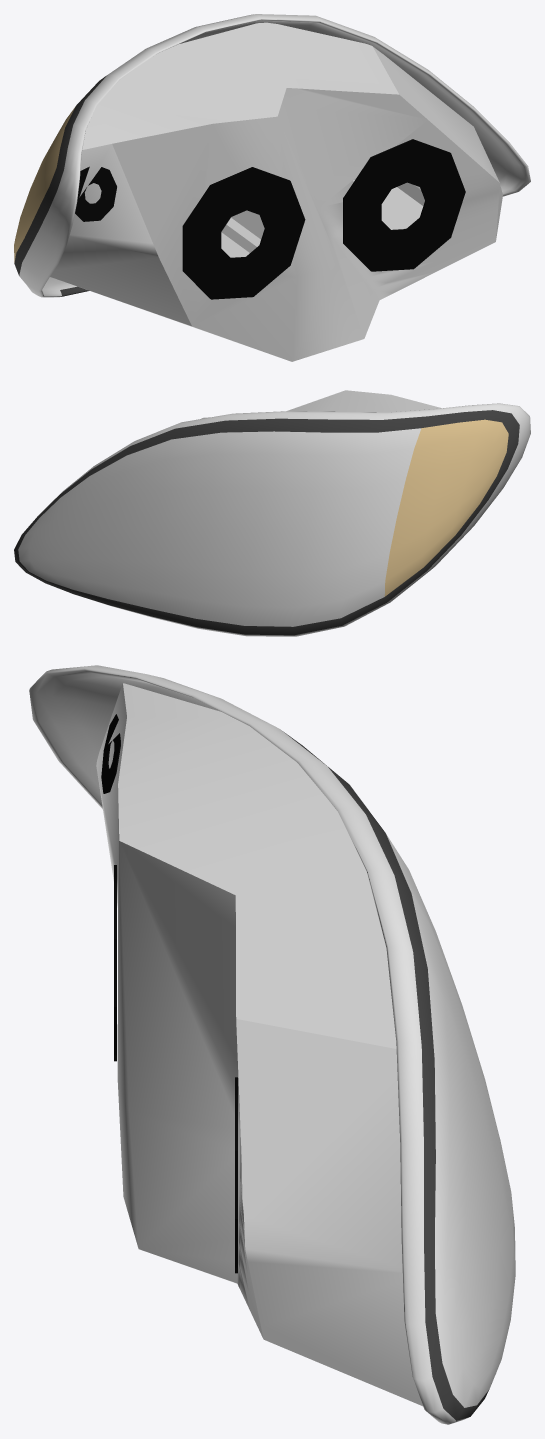
The model's file is Headlights.fbx.
3 views of the same model, one above another, from view 1: azimuth 30°, elevation 25°; view 2: azimuth 150°, elevation 25°; view 3: azimuth 270°, elevation 25° (orthographic). The views are drawn at different scales.
Parts seen in each view (by area): view 1: pCube3; view 2: pCube3; view 3: pCube3.
Part boxes in pixels (x1,y1,x2,y2): pCube3: (14, 14, 530, 361); pCube3: (14, 390, 530, 636); pCube3: (29, 665, 515, 1424).
Bounding box in the file's own units: 3.73 × 1.72 × 1.88.
